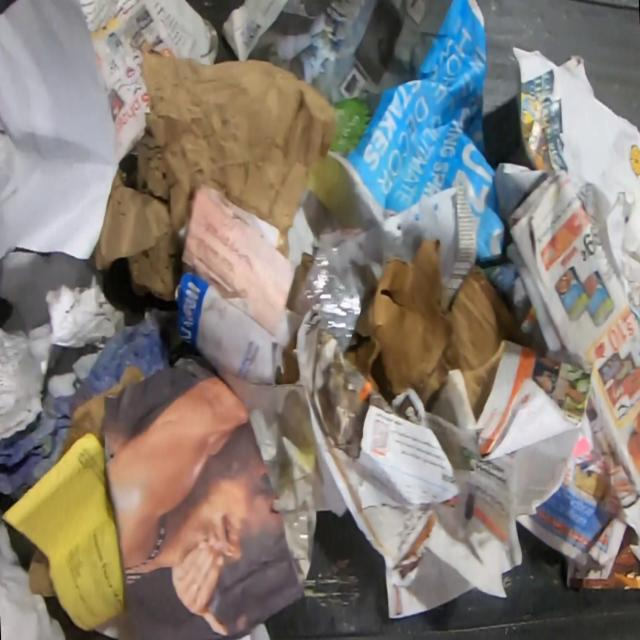cardboard: (344, 236, 531, 422), (53, 365, 148, 467), (27, 545, 54, 598)
rigid_plastic: (291, 228, 362, 351)
